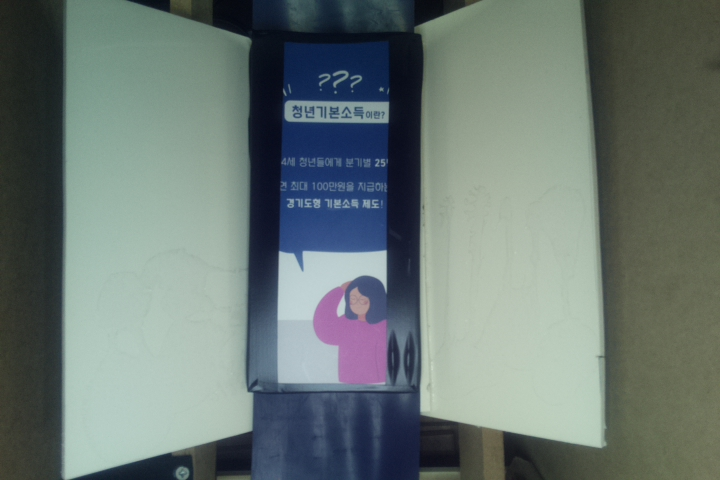book: (248, 31, 424, 396)
